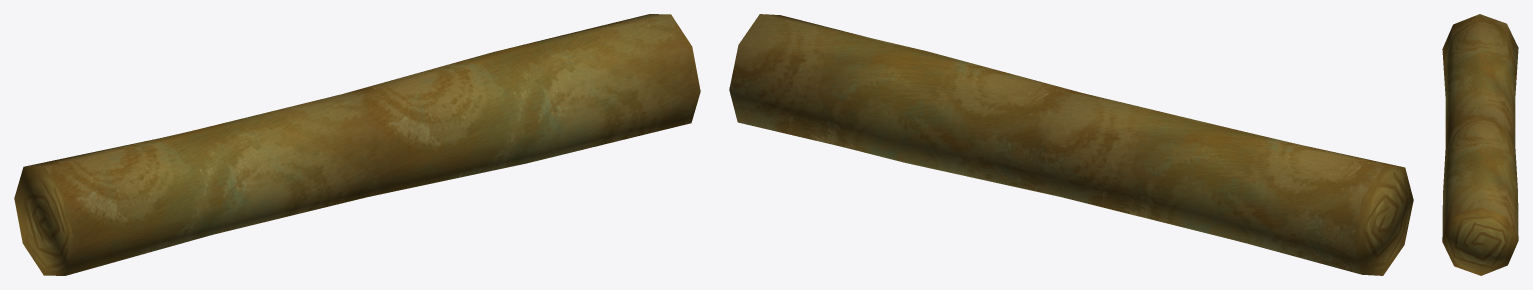
File: Waterfall_Log_Med.fbx
3 views of the same model, side by side, from view 1: azimuth 30°, elevation 25°; view 2: azimuth 150°, elevation 25°; view 3: azimuth 270°, elevation 25° (orthographic). The views are drawn at different scales.
Visible parts, largest first — view 1: pCylinder6; view 2: pCylinder6; view 3: pCylinder6.
Part boxes in pixels (<box>): pCylinder6: <box>14,14,700,275</box>; pCylinder6: <box>729,14,1413,275</box>; pCylinder6: <box>1442,14,1518,275</box>.
Bounding box in the file's own units: 12 × 2 × 2.
Materials: 1 (1 with a texture image).
